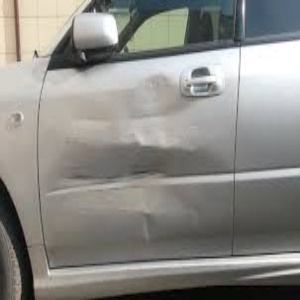door: (57, 80, 249, 252)
